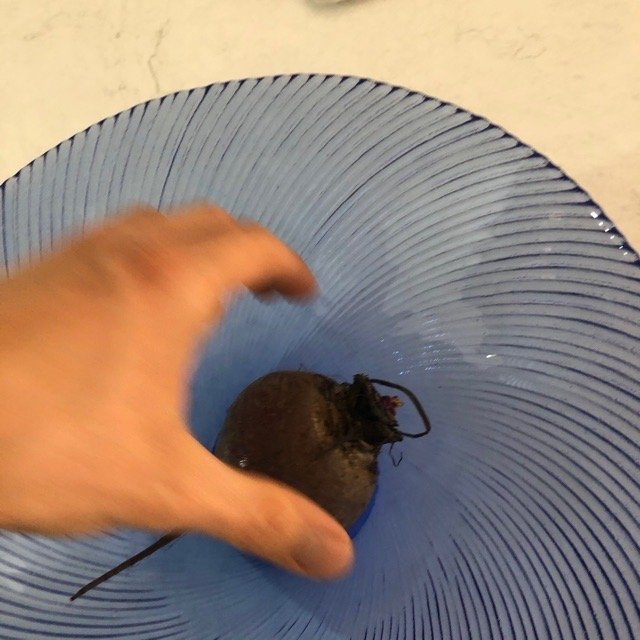beet: (71, 369, 430, 600)
